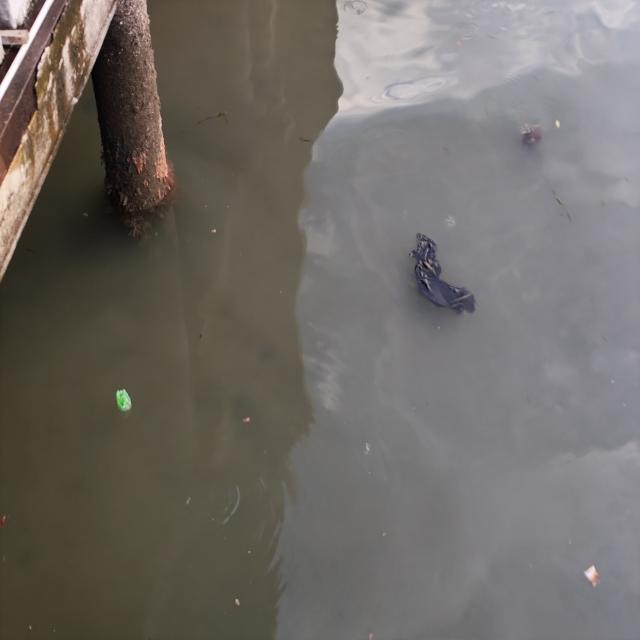Kantong Plastik: (410, 231, 479, 324), (110, 381, 138, 413)
